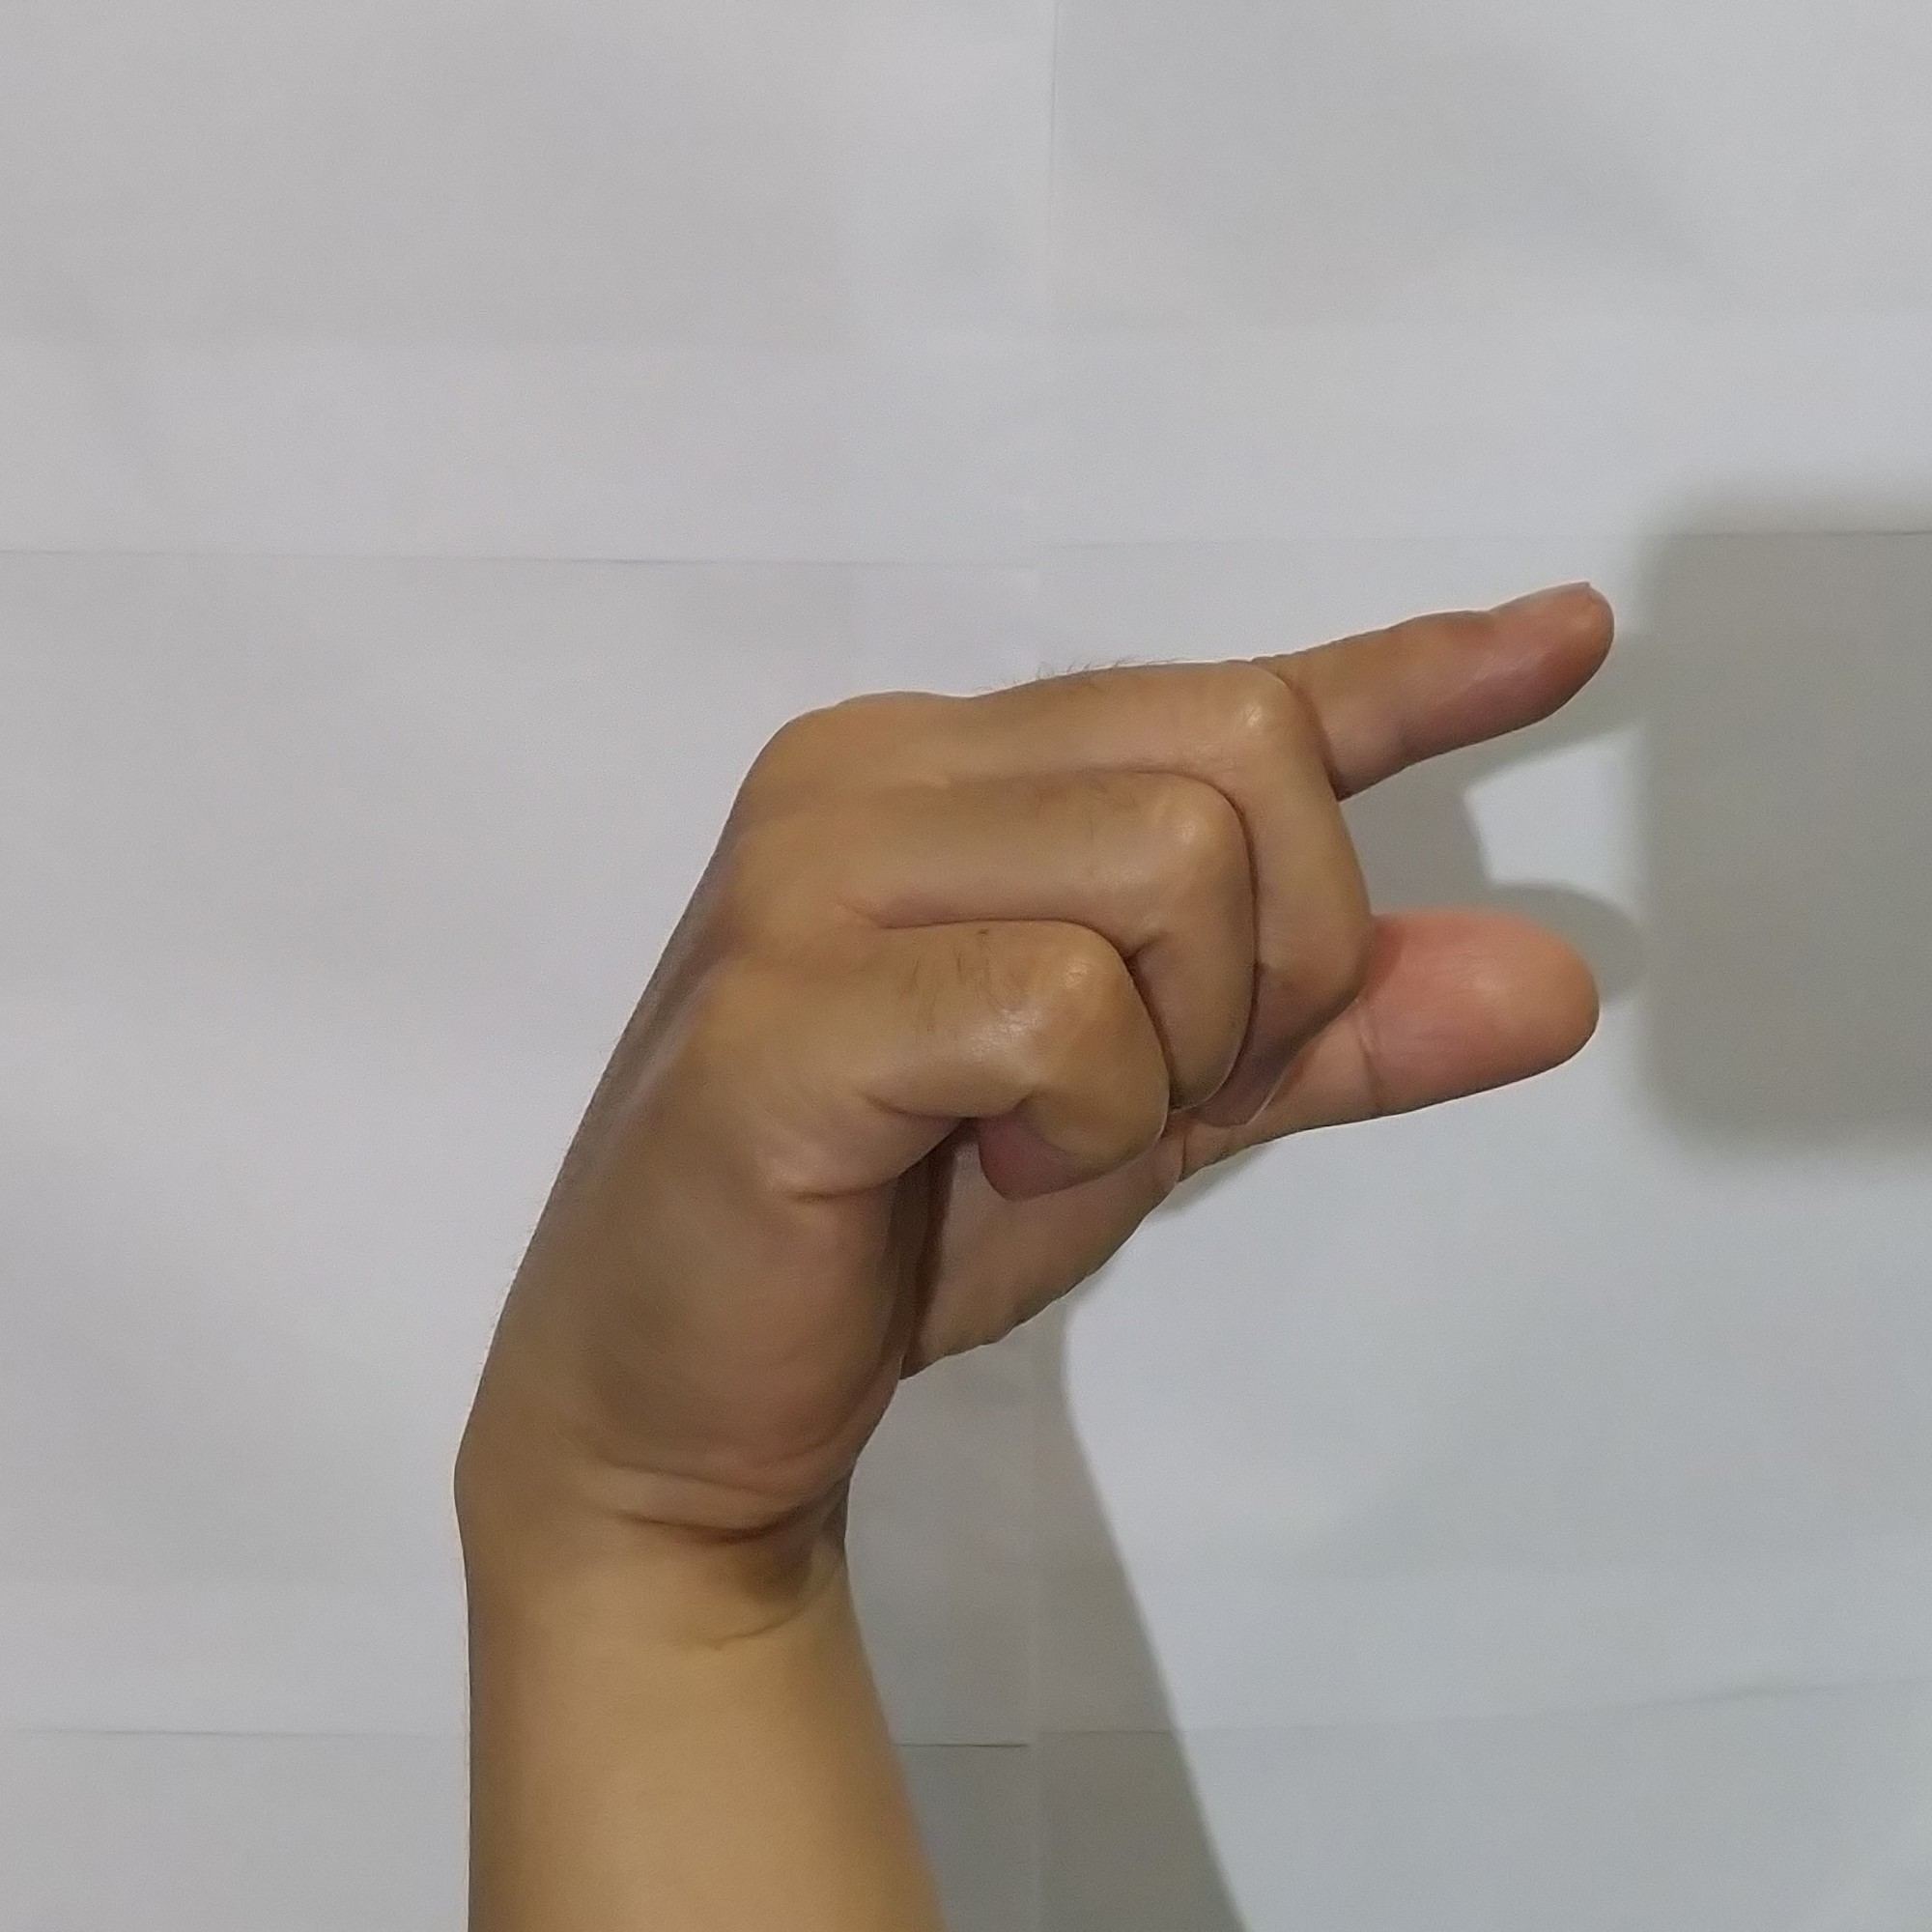G: (453, 561, 1637, 1483)
